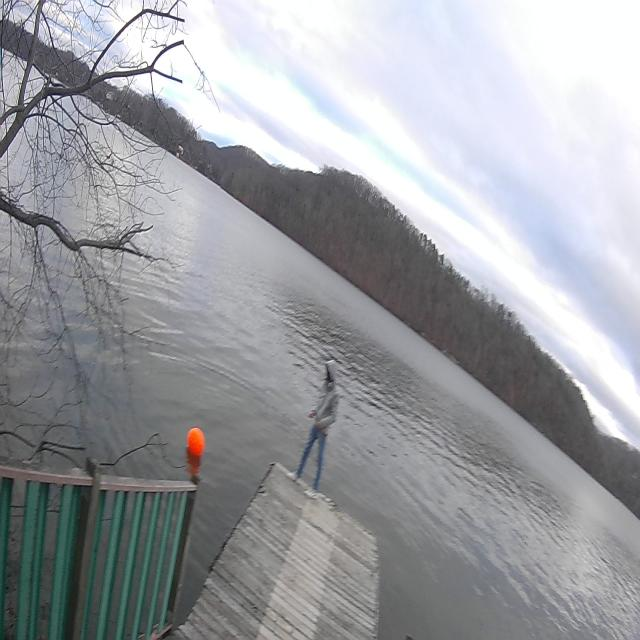Buoy: (186, 426, 206, 458)
